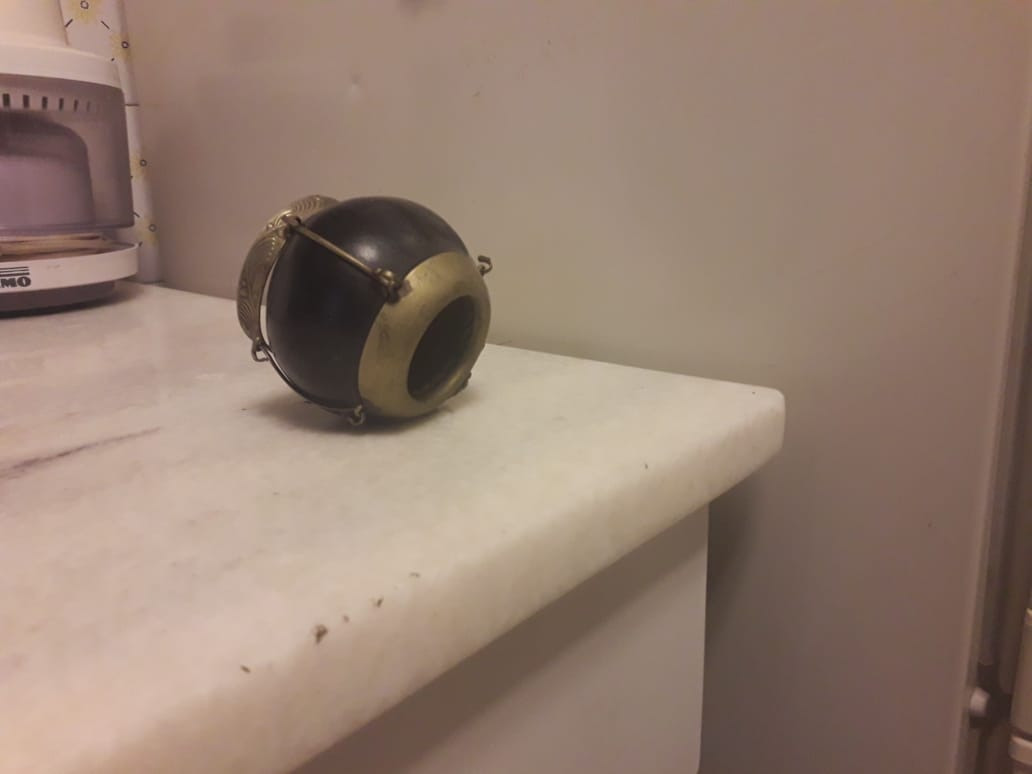calabaza: (228, 184, 496, 431)
mate: (230, 186, 498, 433)
